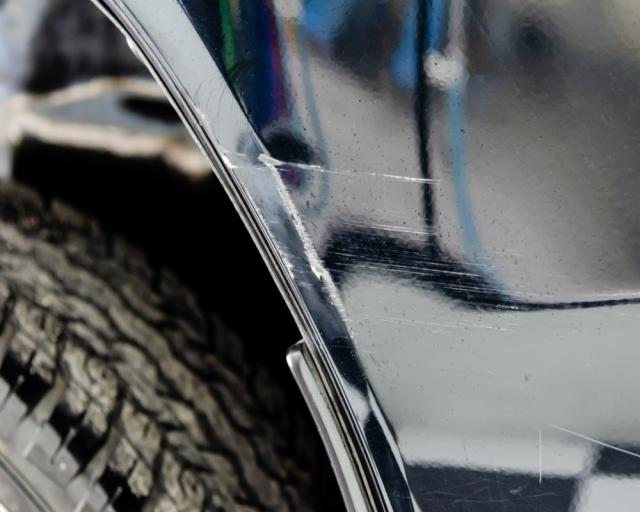scratch: (218, 143, 552, 339)
